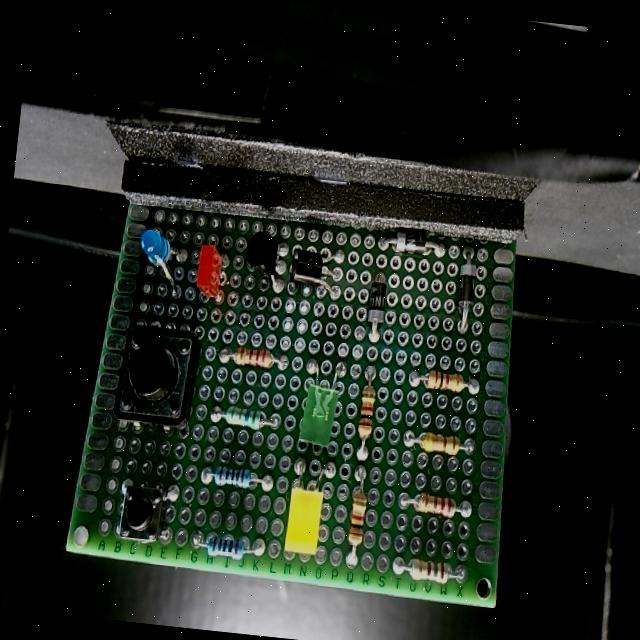diode: (452, 258, 480, 312), (390, 225, 434, 257), (364, 275, 391, 327)
led: (282, 475, 325, 555), (298, 380, 340, 450), (192, 240, 227, 302), (136, 223, 174, 274)
resistor: (403, 553, 454, 588), (408, 489, 459, 523), (342, 490, 370, 550), (209, 460, 256, 494), (416, 428, 466, 458), (230, 342, 276, 374), (221, 402, 270, 432), (202, 532, 250, 562), (422, 366, 468, 396), (354, 380, 376, 440)
transistor: (112, 320, 204, 430), (114, 481, 170, 548), (242, 230, 280, 276), (290, 248, 329, 286)
